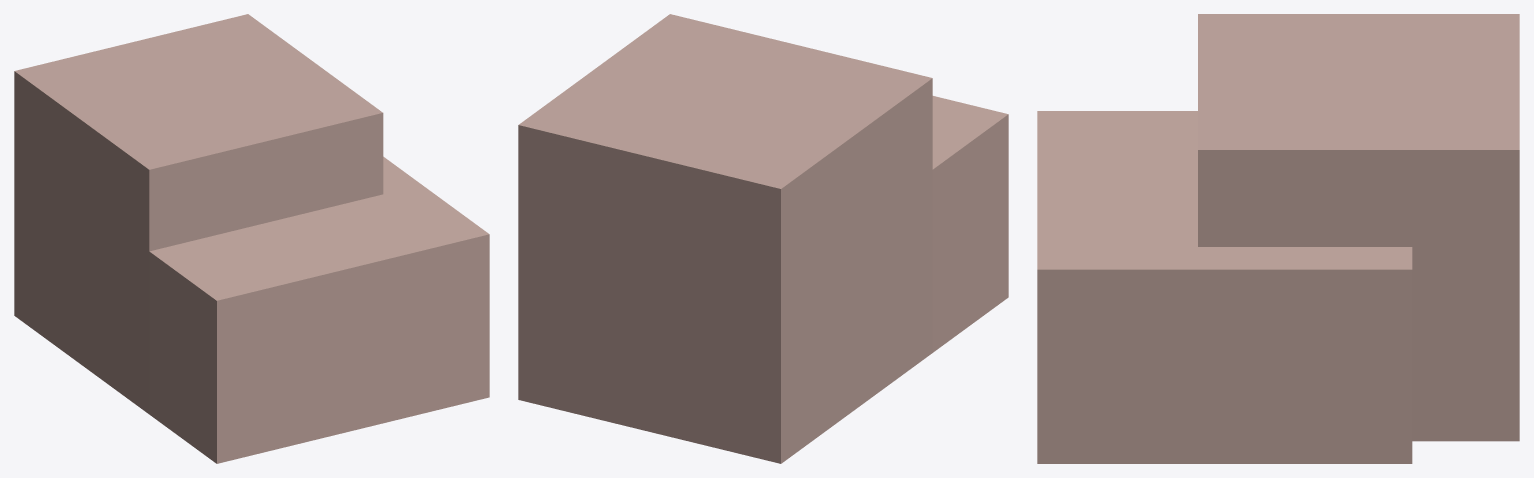
File: roca_coralina_03.glb
The picture shows the model from 3 angles, left to right: view 1: azimuth 30°, elevation 25°; view 2: azimuth 150°, elevation 25°; view 3: azimuth 270°, elevation 25°; orthographic projection. The views are drawn at different scales.
Parts seen in each view (by area): view 1: roca_coralina_03; view 2: roca_coralina_03; view 3: roca_coralina_03.
Part boxes in pixels (bbox=[...]): roca_coralina_03: bbox=[14, 14, 489, 463]; roca_coralina_03: bbox=[518, 14, 1008, 463]; roca_coralina_03: bbox=[1037, 14, 1519, 463].
Size of the model in its own units: 0.7 by 0.6 by 0.9.
